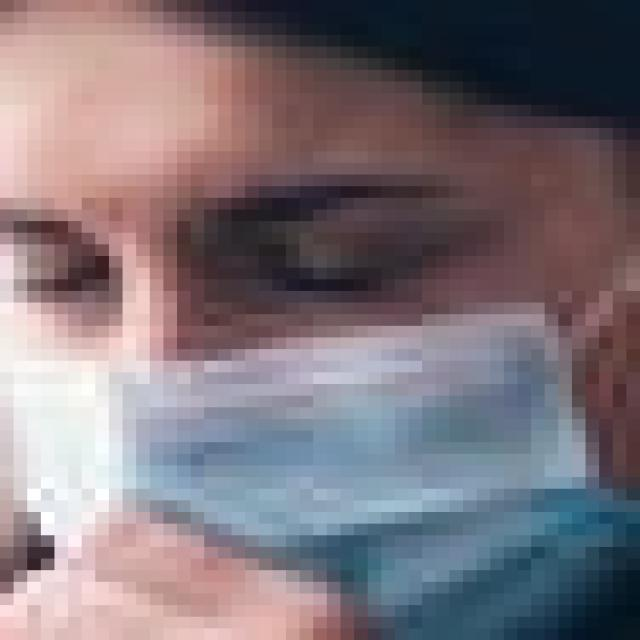Anxiety: (14, 0, 640, 628)
